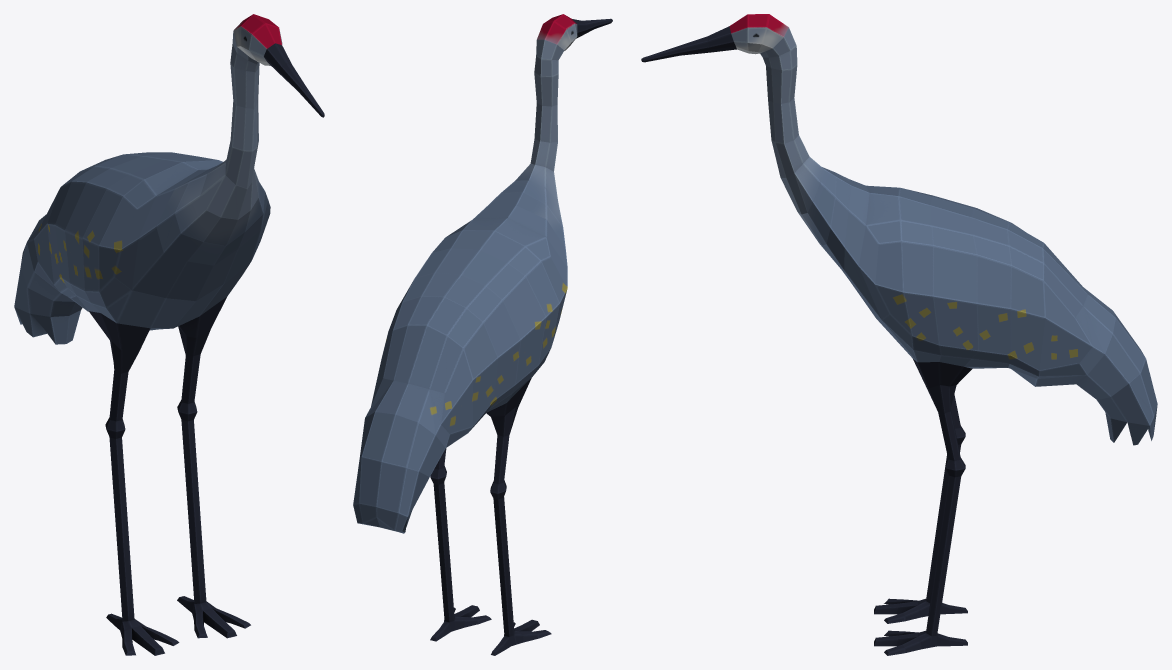
Rendered from crane.glb.
The picture shows the model from 3 angles, left to right: view 1: azimuth 30°, elevation 25°; view 2: azimuth 150°, elevation 25°; view 3: azimuth 270°, elevation 25°; orthographic projection. The views are drawn at different scales.
Parts seen in each view (by area): view 1: node-0; view 2: node-0; view 3: node-0.
Boxes of the visible parts, x1,y1,x2,y2 form: node-0: (14, 14, 324, 655); node-0: (353, 14, 612, 655); node-0: (641, 14, 1157, 655).
Bounding box in the file's own units: 3.1 × 12.28 × 9.36.
1 material, 1 textured.
